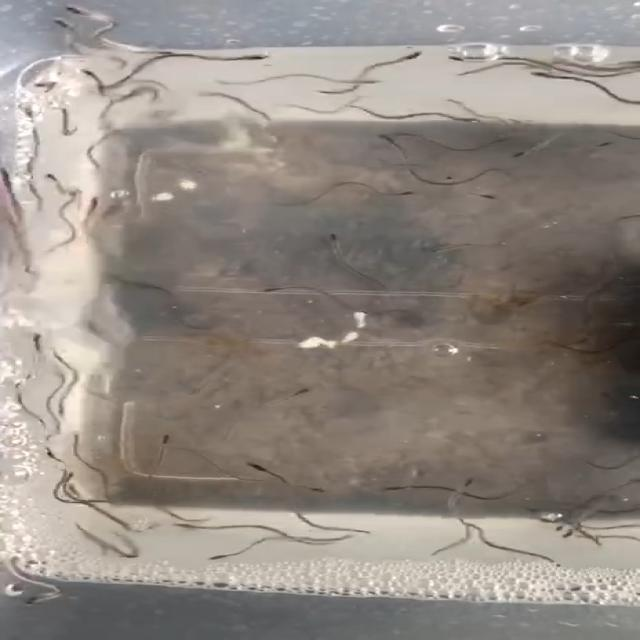inactive_glass_eel: (63, 63, 109, 83), (48, 0, 91, 21), (38, 9, 75, 33), (374, 476, 422, 494), (520, 69, 567, 86), (224, 53, 285, 66), (513, 138, 543, 161), (454, 474, 486, 495), (260, 282, 305, 296), (283, 384, 318, 402), (441, 50, 477, 67), (440, 112, 483, 126), (24, 329, 47, 355), (379, 130, 405, 152), (588, 136, 626, 151), (246, 462, 281, 478), (62, 187, 89, 207), (294, 482, 330, 497), (324, 229, 346, 252), (154, 429, 180, 447), (397, 46, 426, 62), (471, 189, 504, 203), (78, 191, 97, 215), (0, 166, 19, 188), (39, 170, 62, 188), (379, 187, 416, 198), (562, 524, 588, 539), (207, 548, 235, 561), (168, 518, 203, 528), (549, 518, 574, 532)
